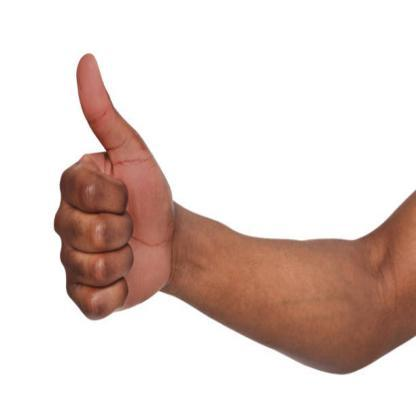thumb_up: (43, 44, 181, 344)
